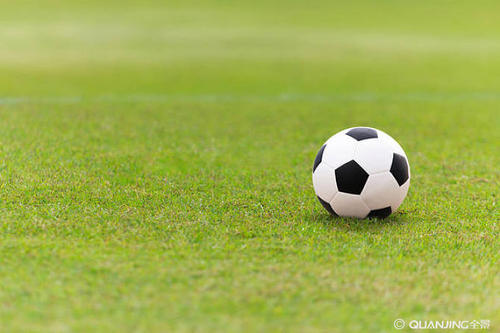football: (312, 125, 412, 224)
